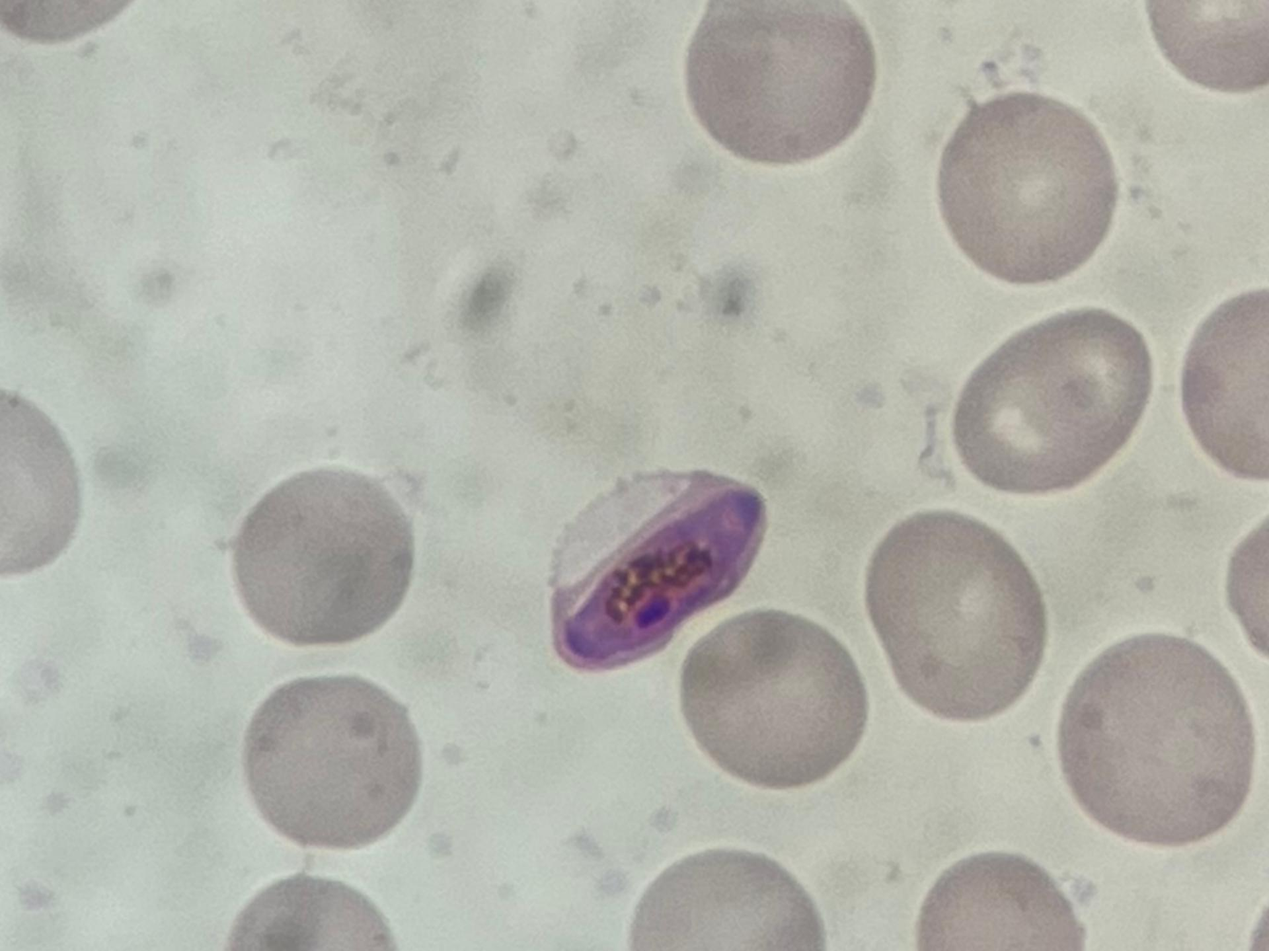Infected: (551, 470, 767, 672)
Uninfected: (1062, 633, 1254, 849), (950, 307, 1157, 495), (868, 512, 1046, 722), (939, 98, 1125, 279), (231, 468, 422, 642), (687, 607, 868, 790), (687, 0, 877, 162), (247, 675, 423, 847), (630, 849, 823, 951), (914, 851, 1094, 951)
